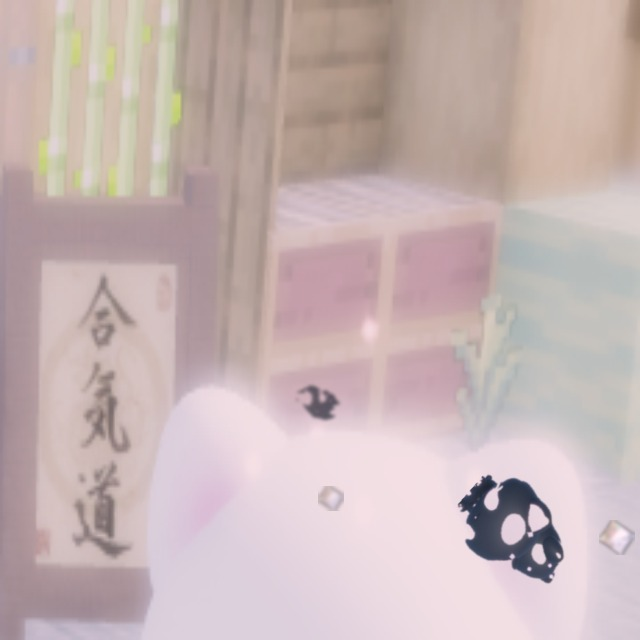urso_branco: (599, 520, 635, 555), (318, 486, 344, 511)
urso_preto: (435, 455, 599, 615), (284, 370, 353, 437)
